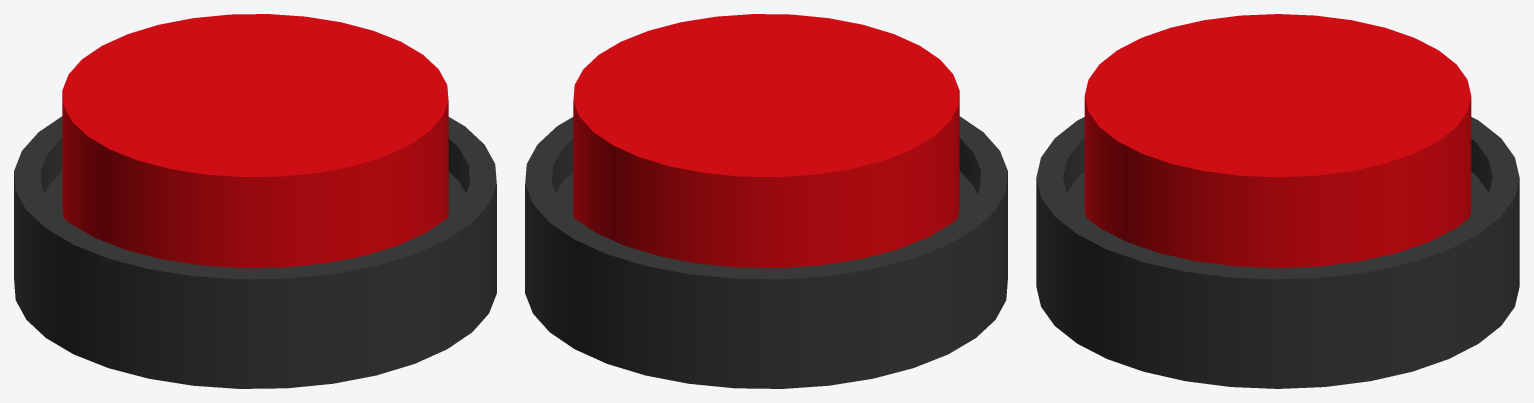
The model's file is Button.glb.
3 views of the same model, side by side, from view 1: azimuth 30°, elevation 25°; view 2: azimuth 150°, elevation 25°; view 3: azimuth 270°, elevation 25° (orthographic).
Parts seen in each view (by area): view 1: Button; view 2: Button; view 3: Button.
Part boxes in pixels (box(x1,y1,x2,y2)): Button: box(14, 14, 496, 388); Button: box(525, 14, 1007, 388); Button: box(1036, 14, 1519, 388).
Size of the model in its own units: 2 by 0.8733 by 2.
